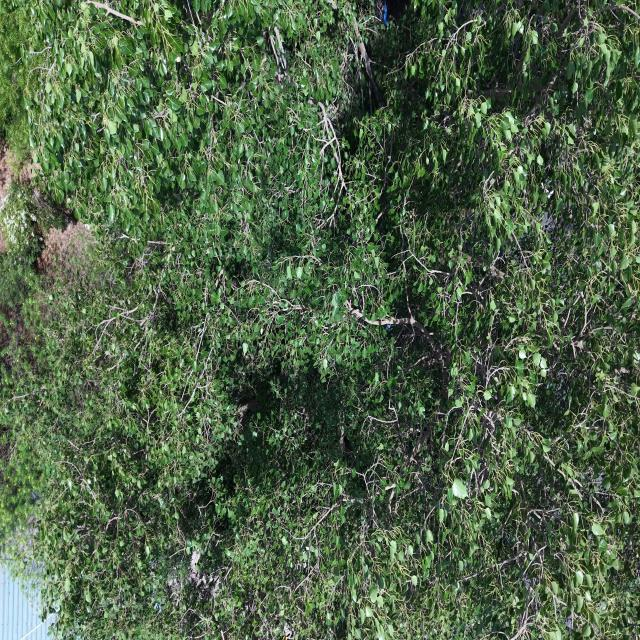DRY_AREA: (38, 222, 91, 279), (0, 141, 39, 202), (0, 142, 12, 200), (0, 145, 11, 201)
VEGETATION_TREE: (0, 0, 639, 639), (0, 0, 38, 167)
